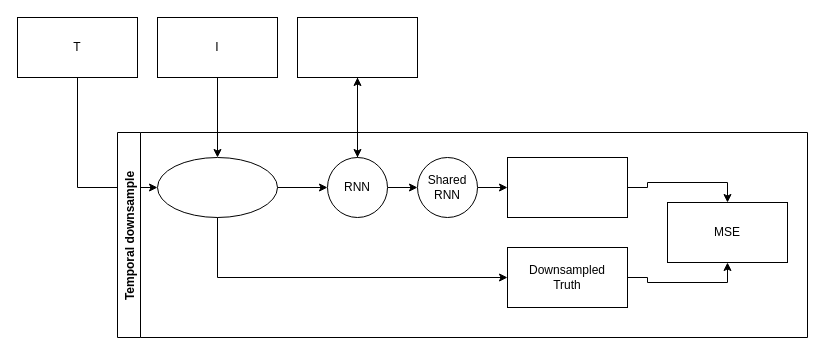
The diagram is 825 pixels wide and 355 high, and some of its shapes have lost their labels. Each missing label, with the box of its shape:
Downsample by x factor: (156, 156, 278, 218)
Downsampled Prediction I: (506, 156, 628, 218)
Embedding: (296, 16, 418, 78)
